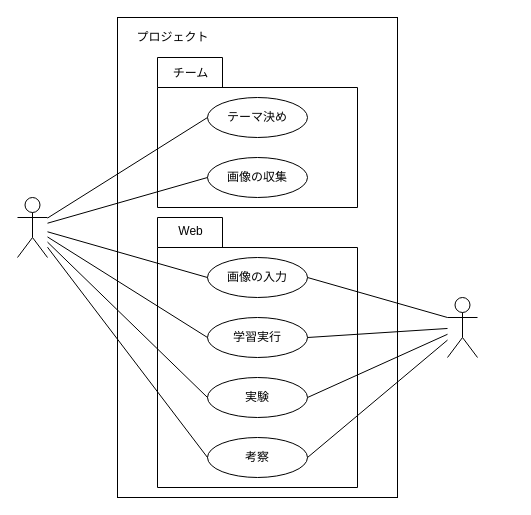
Image size: 531x515. Some labels were removed from this diagram. The shapes that lost their labels are listed below. From the top down, each one's box as (x1, y1, x2, y2) in pixels, then its label:
(16, 196, 48, 258): 生徒
(446, 296, 478, 358): Teachable Machine
